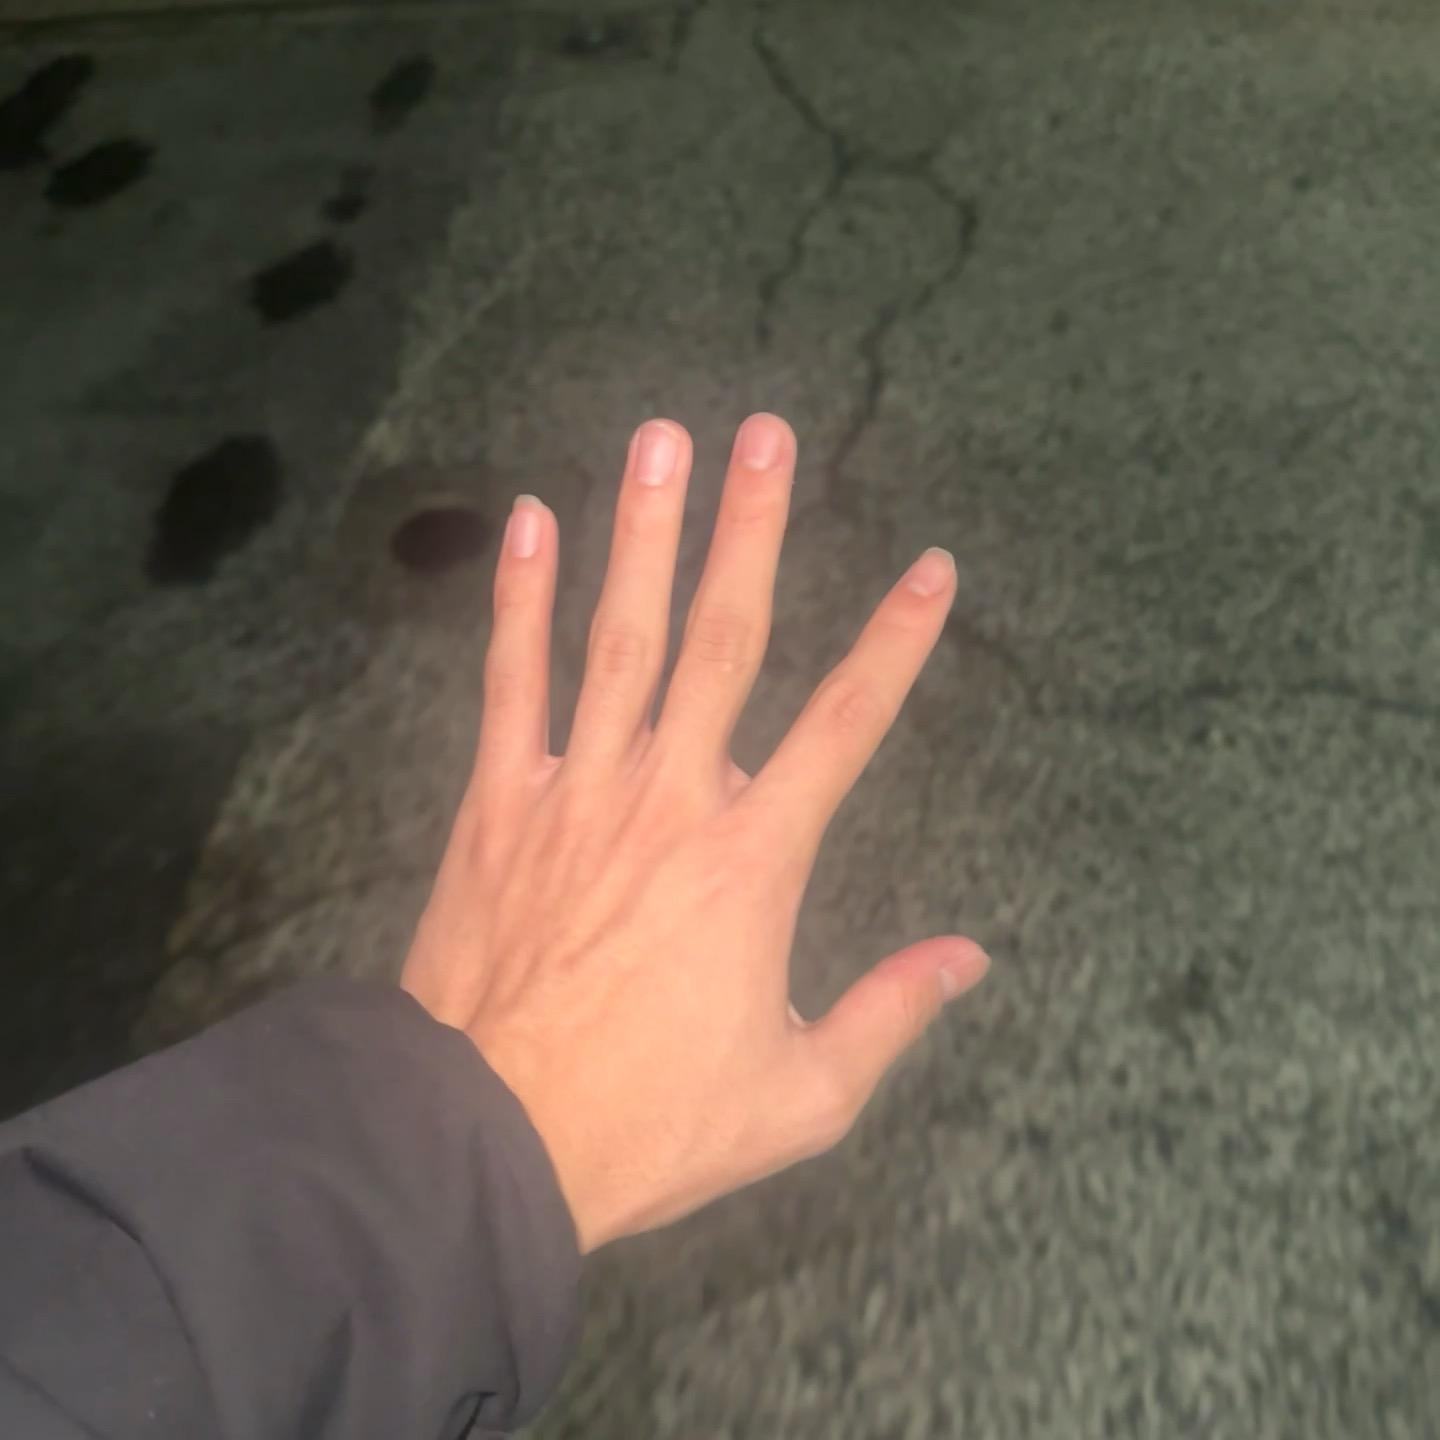without_gloves: (284, 273, 989, 1254)
